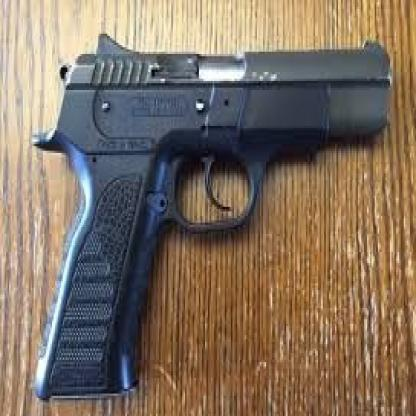Pistol: (31, 22, 392, 404)
